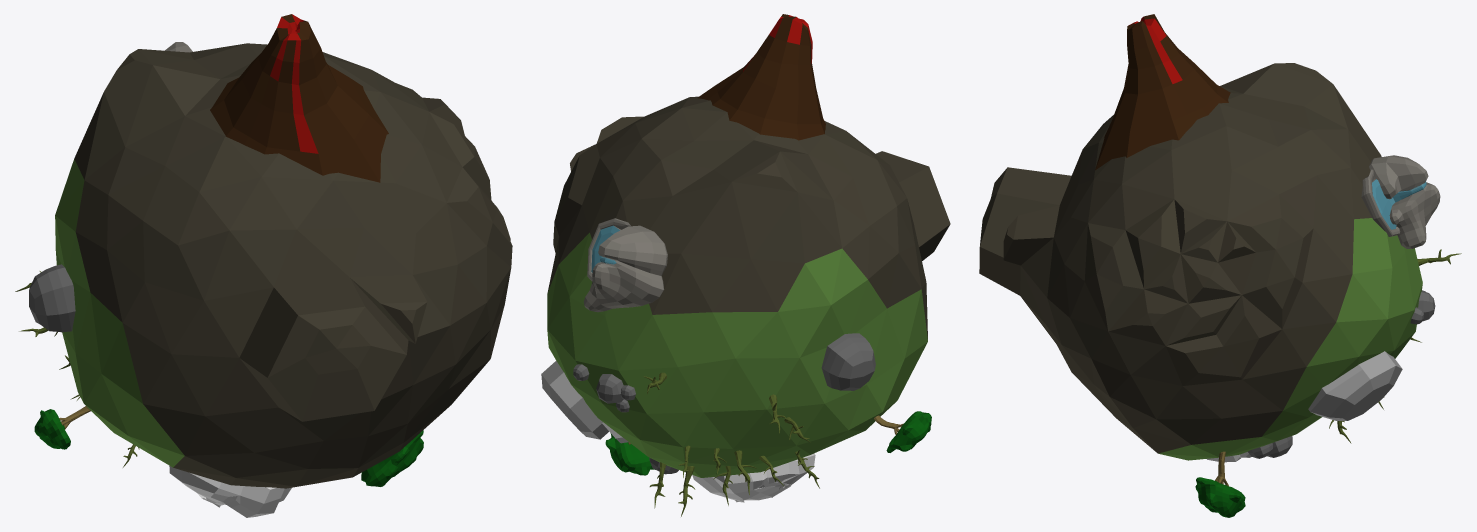
The model's file is Star3.fbx.
The picture shows the model from 3 angles, left to right: view 1: azimuth 30°, elevation 25°; view 2: azimuth 150°, elevation 25°; view 3: azimuth 270°, elevation 25°; orthographic projection. The views are drawn at different scales.
Visible parts, largest first — view 1: Cube, Cube.001, Cube.003, Cube.005, Cube.006; view 2: Cube, Cube.001, Cube.007, Cube.006, Cube.003, Cube.005, Cube.004, Cube.002; view 3: Cube, Cube.001, Cube.007, Cube.002, Cube.005, Cube.006.
Part boxes in pixels (bbox=[...]): Cube: bbox=[55, 43, 512, 488]; Cube.001: bbox=[210, 14, 388, 182]; Cube.003: bbox=[169, 465, 291, 517]; Cube.005: bbox=[34, 406, 423, 486]; Cube.006: bbox=[29, 264, 75, 332]; Cube: bbox=[547, 96, 950, 477]; Cube.001: bbox=[697, 14, 825, 140]; Cube.007: bbox=[583, 218, 667, 312]; Cube.006: bbox=[573, 333, 875, 474]; Cube.003: bbox=[692, 453, 815, 502]; Cube.005: bbox=[605, 411, 931, 475]; Cube.004: bbox=[643, 372, 819, 516]; Cube.002: bbox=[541, 361, 628, 443]; Cube: bbox=[979, 63, 1422, 460]; Cube.001: bbox=[1095, 14, 1230, 170]; Cube.007: bbox=[1361, 155, 1440, 248]; Cube.002: bbox=[1308, 351, 1402, 420]; Cube.005: bbox=[1195, 451, 1245, 517]; Cube.006: bbox=[1248, 290, 1435, 458].
Bounding box in the file's own units: 218 × 257 × 253.
